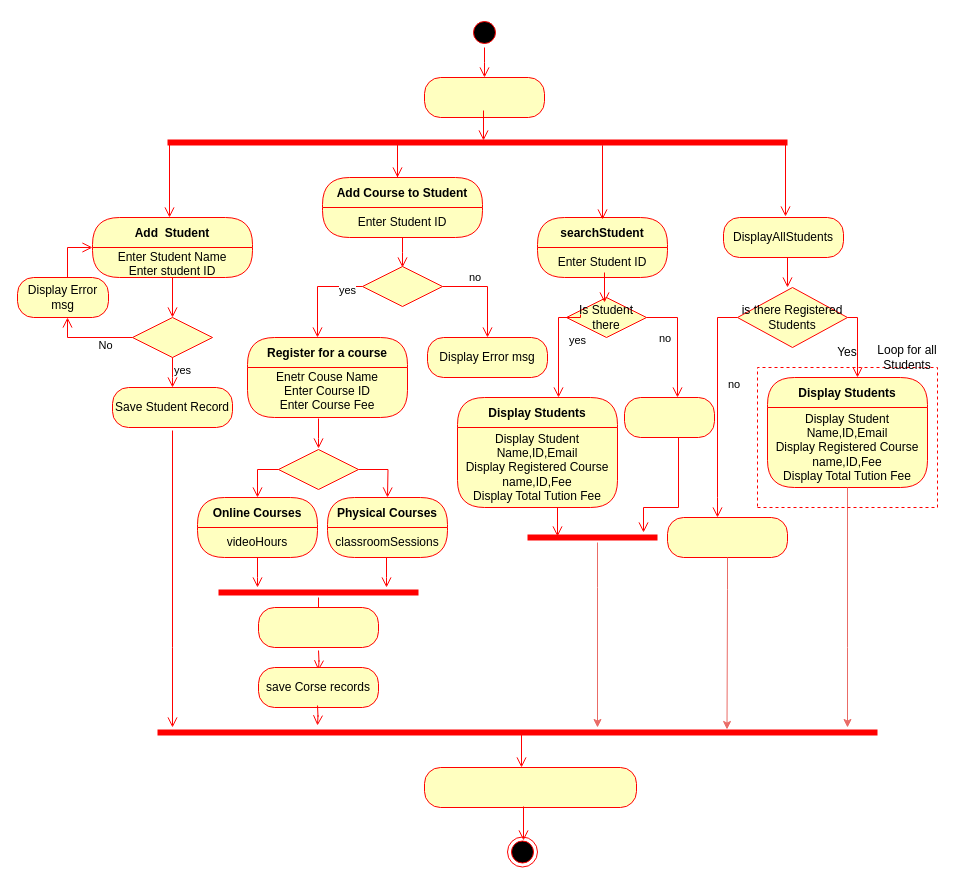
The diagram is 965 pixels wide and 885 high, and some of its shapes have lost their labels. The shapes that lost their labels are listed below. From the top down, each one's centre as x and y in pixels, then its label:
point (484, 97): Enter Your Choice
point (402, 286): Valid Student ID
point (172, 337): Valid Email
point (669, 417): display Student doesn't found
point (318, 469): Select Course Type
point (727, 537): Display No students are registered.
point (318, 627): Calculate Course Fee
point (530, 787): Create a txt file and save all changes
